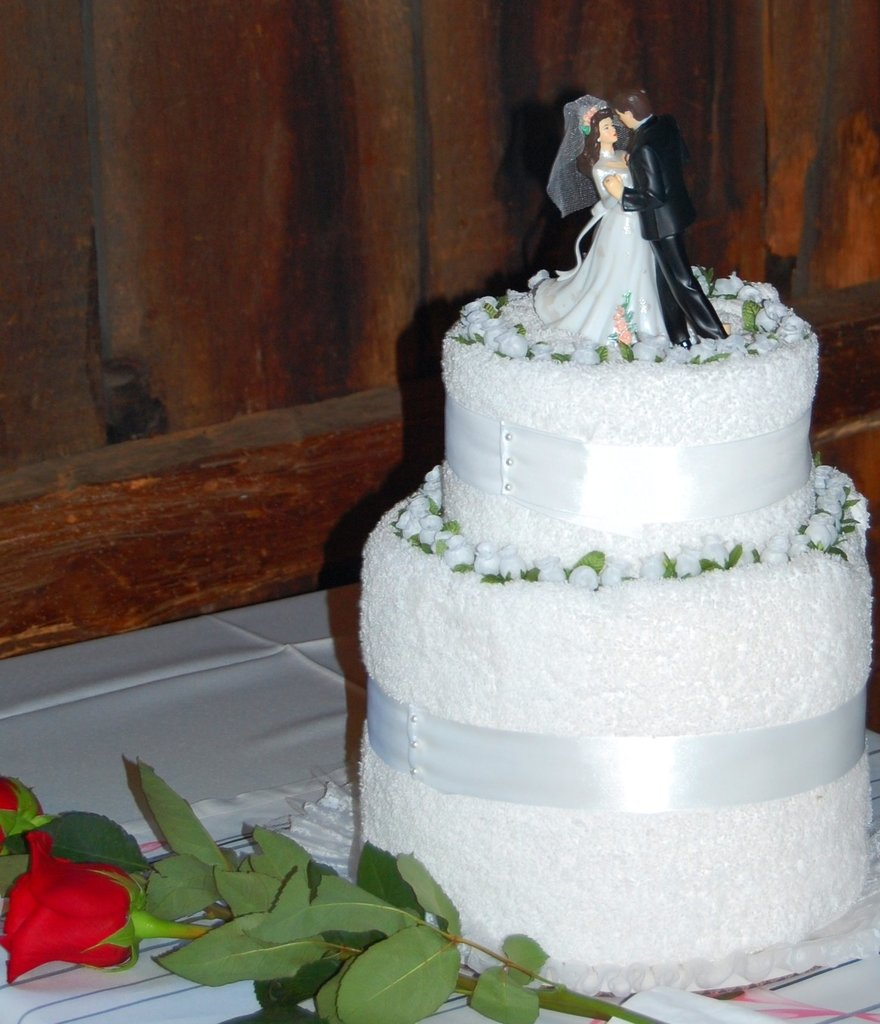cake: (357, 265, 870, 968)
